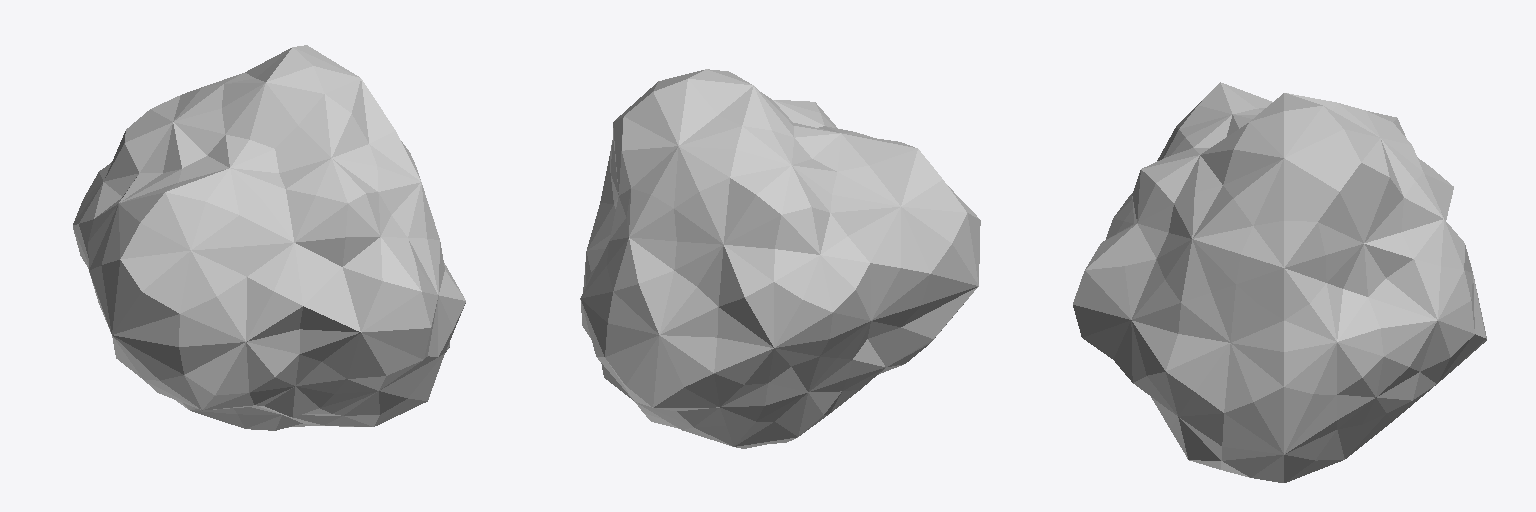
The model's file is Asteroid_normal.obj.
The picture shows the model from 3 angles: view 1: azimuth 30°, elevation 25°; view 2: azimuth 150°, elevation 25°; view 3: azimuth 270°, elevation 25°; orthographic projection.
Parts seen in each view (by area): view 1: Rock_Asteroid; view 2: Rock_Asteroid; view 3: Rock_Asteroid.
Boxes of the visible parts, x1,y1,x2,y2 form: Rock_Asteroid: [73, 45, 465, 430]; Rock_Asteroid: [580, 69, 980, 448]; Rock_Asteroid: [1073, 82, 1486, 482].
Size of the model in its own units: 1.98 by 1.91 by 2.